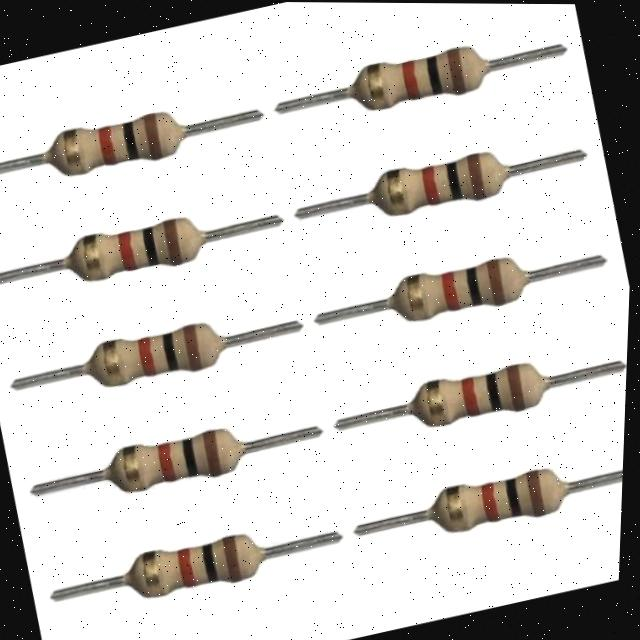Resistor: (292, 11, 548, 143), (317, 113, 560, 252), (358, 324, 607, 459), (338, 221, 588, 355), (31, 296, 271, 431), (51, 399, 291, 528), (386, 434, 624, 563), (12, 185, 249, 314), (0, 79, 231, 209), (82, 504, 307, 637)
